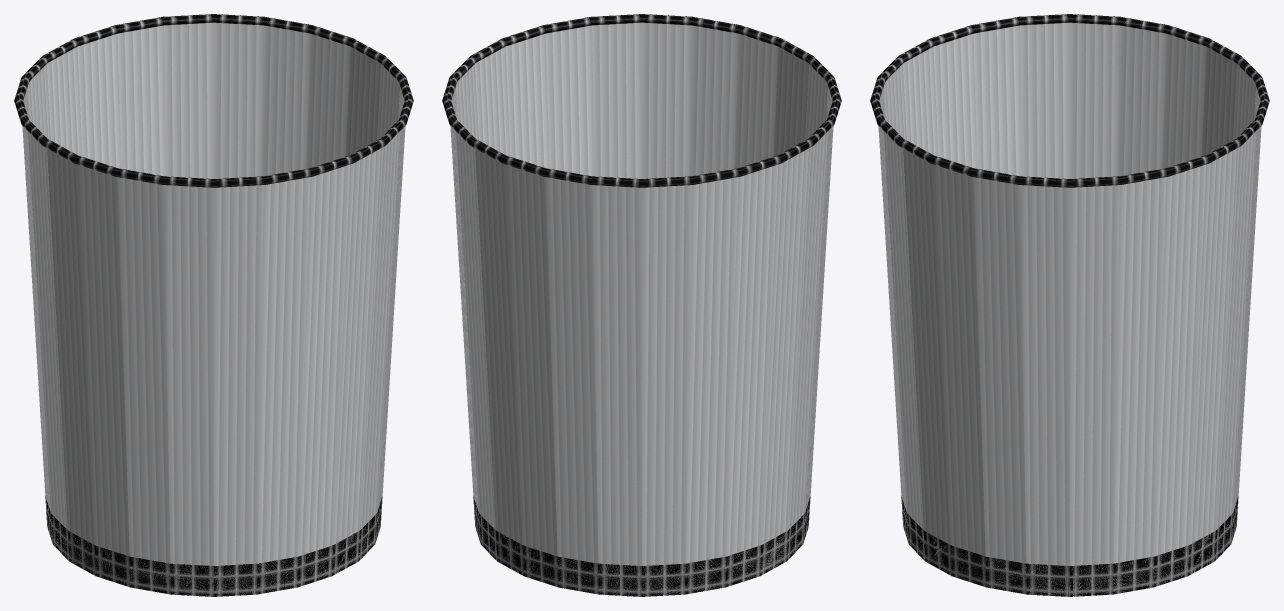
The picture shows the model from 3 angles, left to right: view 1: azimuth 30°, elevation 25°; view 2: azimuth 150°, elevation 25°; view 3: azimuth 270°, elevation 25°; orthographic projection.
Visible parts, largest first — view 1: mesh1.001_mesh1-geometry; view 2: mesh1.001_mesh1-geometry; view 3: mesh1.001_mesh1-geometry.
Boxes of the visible parts, <box> form: mesh1.001_mesh1-geometry: <box>14,14,413,596</box>; mesh1.001_mesh1-geometry: <box>442,14,841,596</box>; mesh1.001_mesh1-geometry: <box>870,14,1269,596</box>.
Bounding box in the file's own units: 0.5416 × 0.6428 × 0.5416.
